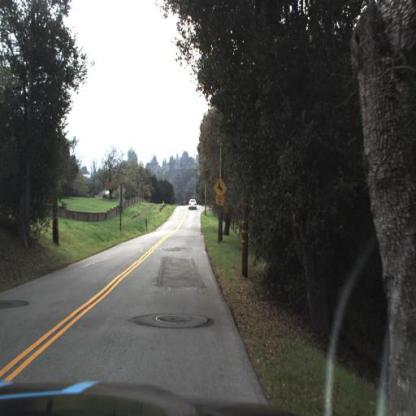car: (186, 198, 201, 215)
